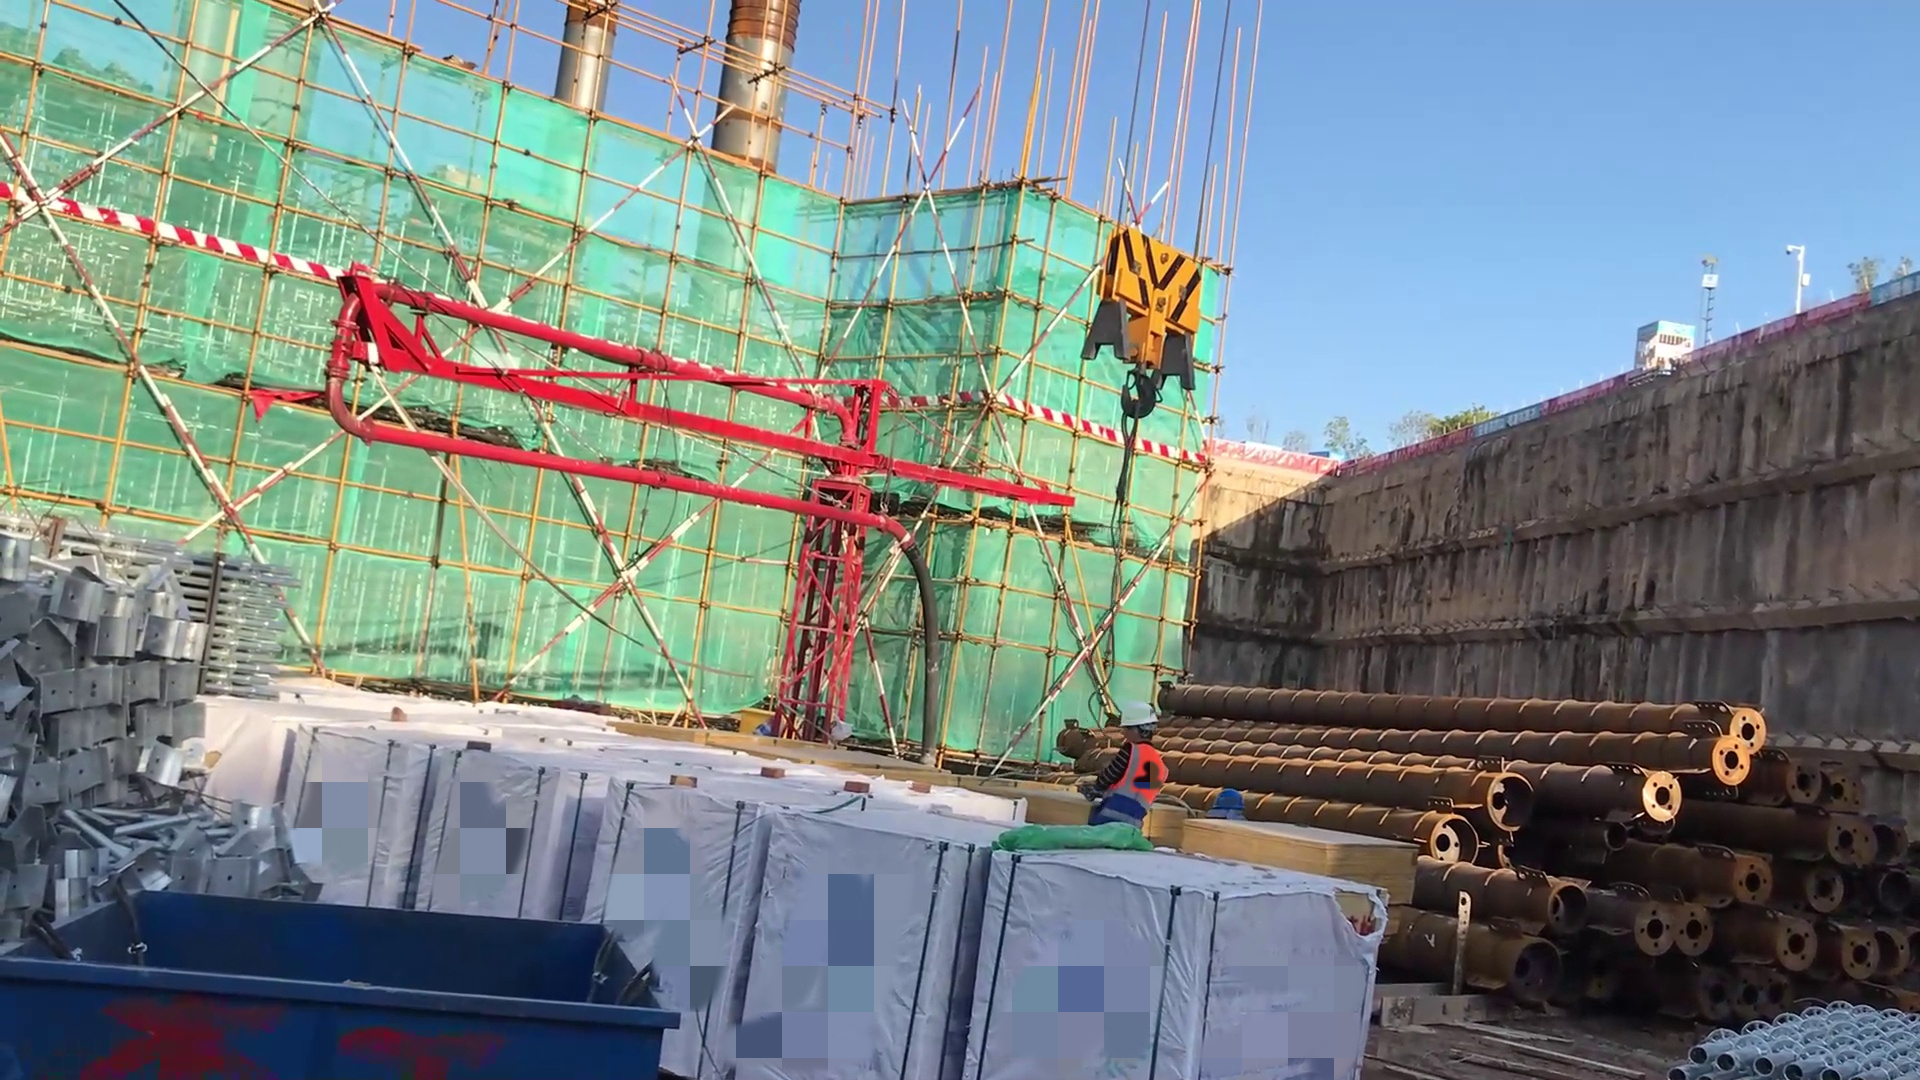board: (1151, 804, 1412, 916)
ebox: (715, 707, 816, 756)
helmet: (1100, 697, 1163, 755), (1205, 781, 1263, 829)
hook: (1094, 184, 1220, 460)
hopper: (7, 880, 690, 1080)
person: (1073, 690, 1191, 843)
scaffold: (44, 526, 319, 689), (1681, 996, 1920, 1080)
slogan: (1469, 388, 1555, 445), (1862, 272, 1920, 306)
vest: (1086, 739, 1171, 830)
